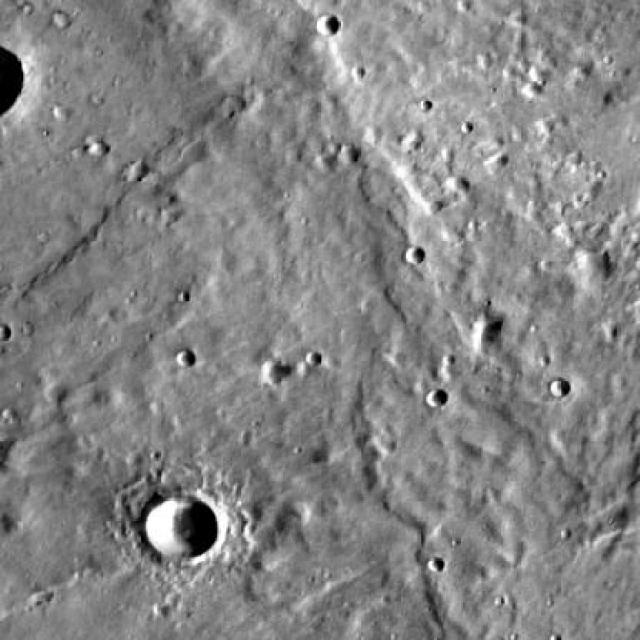crater: (148, 490, 222, 558), (0, 35, 29, 120), (462, 315, 504, 354), (568, 254, 607, 289), (259, 362, 283, 384), (320, 12, 343, 34), (123, 160, 145, 180), (338, 146, 359, 166), (401, 244, 422, 264), (484, 155, 505, 174), (428, 391, 448, 409), (176, 347, 196, 365), (552, 378, 571, 396), (86, 138, 105, 154), (360, 125, 377, 141), (302, 351, 318, 367)
